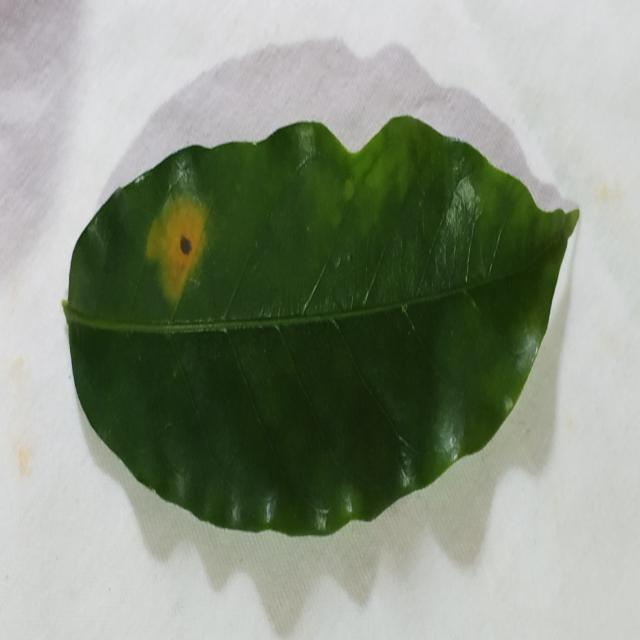Enfermedad-Roya: (61, 116, 581, 539)
